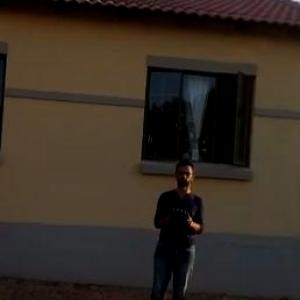follow: (143, 156, 209, 299)
